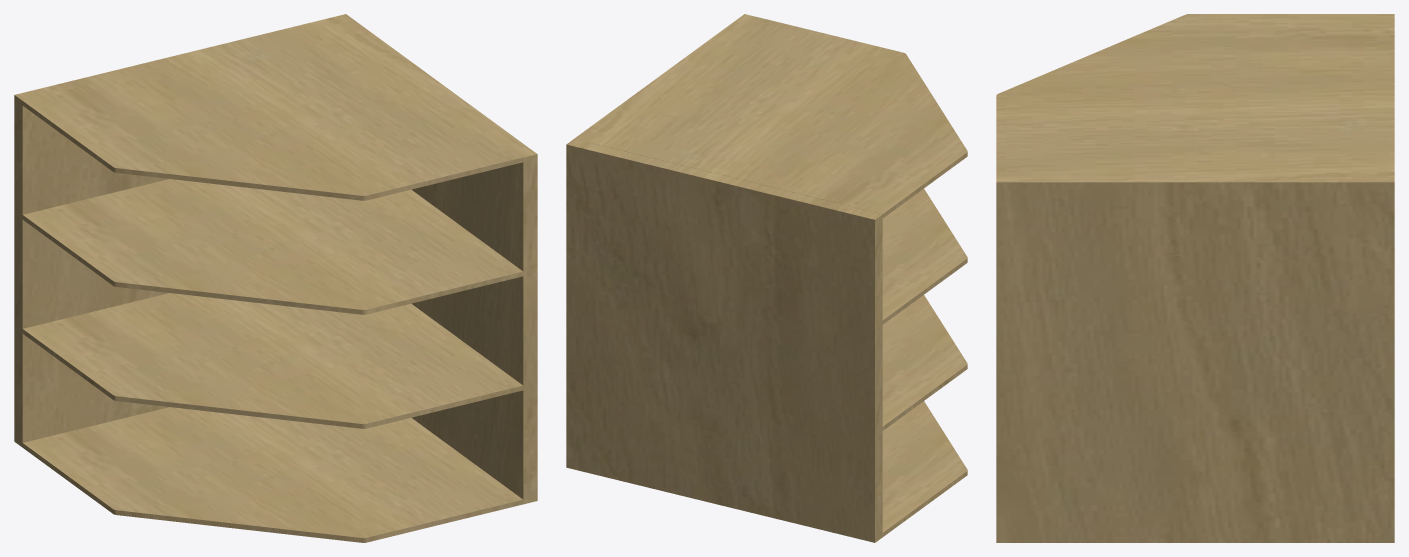
File: sh-bs0-upper-shelves.glb
3 views of the same model, side by side, from view 1: azimuth 30°, elevation 25°; view 2: azimuth 150°, elevation 25°; view 3: azimuth 270°, elevation 25° (orthographic). The views are drawn at different scales.
Visible parts, largest first — view 1: Cube.012_Cube.010; view 2: Cube.012_Cube.010; view 3: Cube.012_Cube.010.
Boxes of the visible parts, bbox=[...] form: Cube.012_Cube.010: bbox=[14, 14, 537, 542]; Cube.012_Cube.010: bbox=[566, 14, 967, 542]; Cube.012_Cube.010: bbox=[996, 14, 1394, 542].
Bounding box in the file's own units: 1 × 1 × 1.
1 material, 1 textured.
